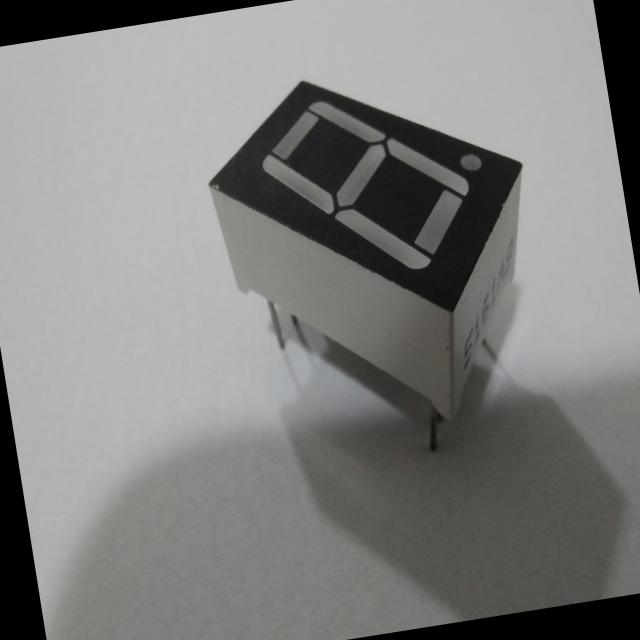7_segments: (191, 38, 578, 497)
